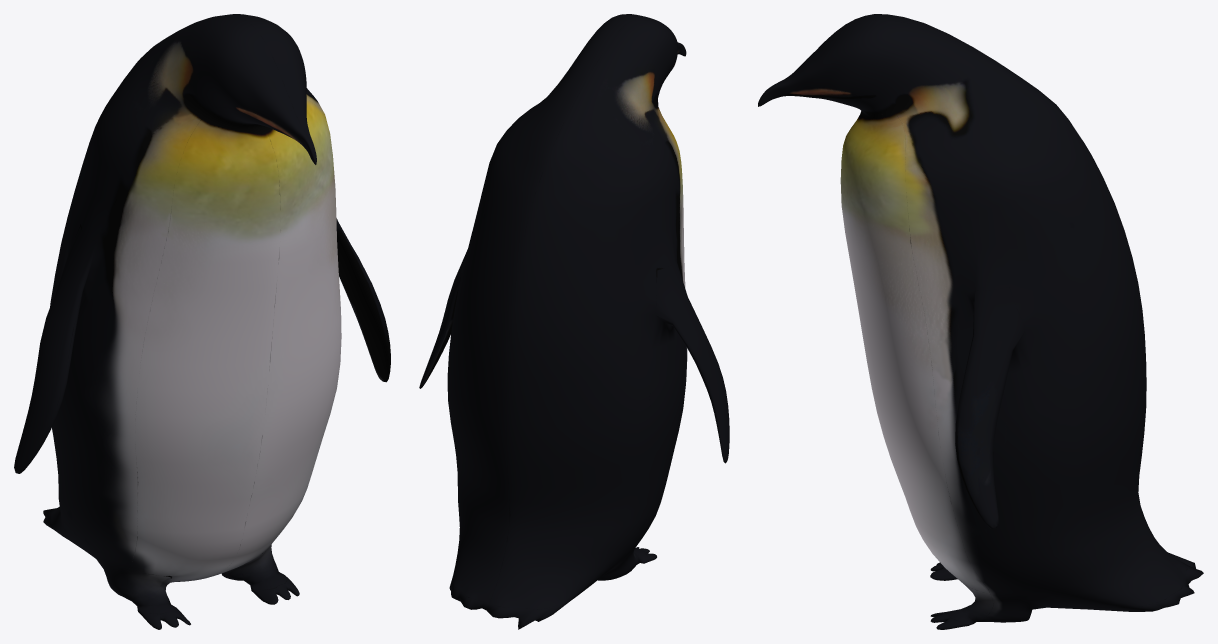
File: penguin_triangles.obj
3 renders of one model, left to right at view 1: azimuth 30°, elevation 25°; view 2: azimuth 150°, elevation 25°; view 3: azimuth 270°, elevation 25°, orthographic. The views are drawn at different scales.
Visible parts, largest first — view 1: Penguin_Cylinder.001; view 2: Penguin_Cylinder.001; view 3: Penguin_Cylinder.001.
Boxes of the visible parts, x1,y1,x2,y2 form: Penguin_Cylinder.001: [14, 14, 390, 629]; Penguin_Cylinder.001: [419, 14, 729, 629]; Penguin_Cylinder.001: [758, 14, 1203, 629].
Size of the model in its own units: 0.7502 by 1.19 by 0.8357.
